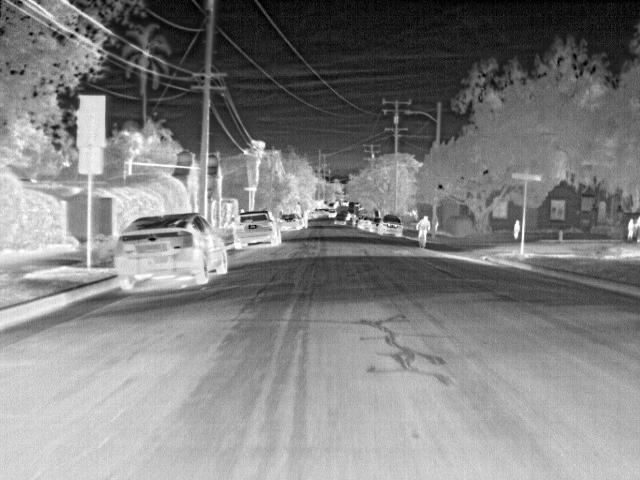car: (112, 213, 228, 292), (233, 209, 283, 250), (379, 216, 403, 235), (281, 214, 303, 232), (365, 216, 379, 232), (353, 218, 367, 232), (333, 213, 347, 225)
person: (419, 214, 434, 233), (626, 218, 637, 240), (511, 219, 522, 240)
